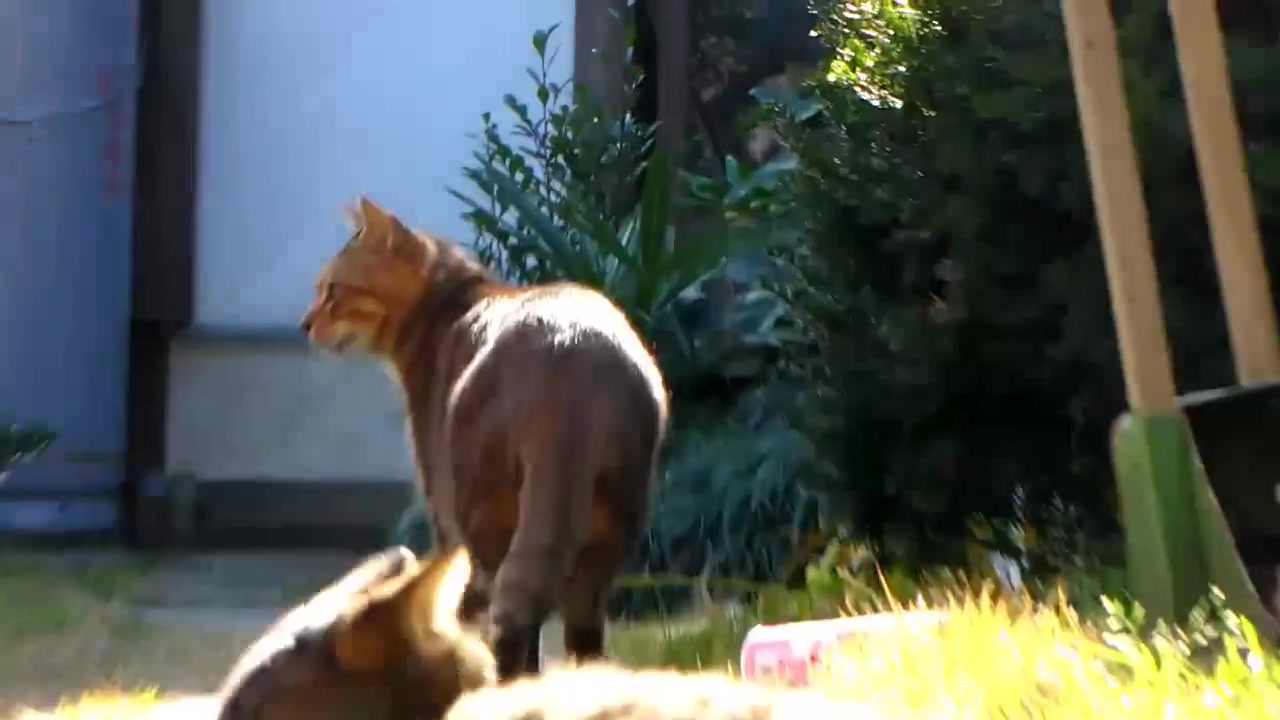cat: (290, 199, 670, 677), (218, 544, 503, 720)
